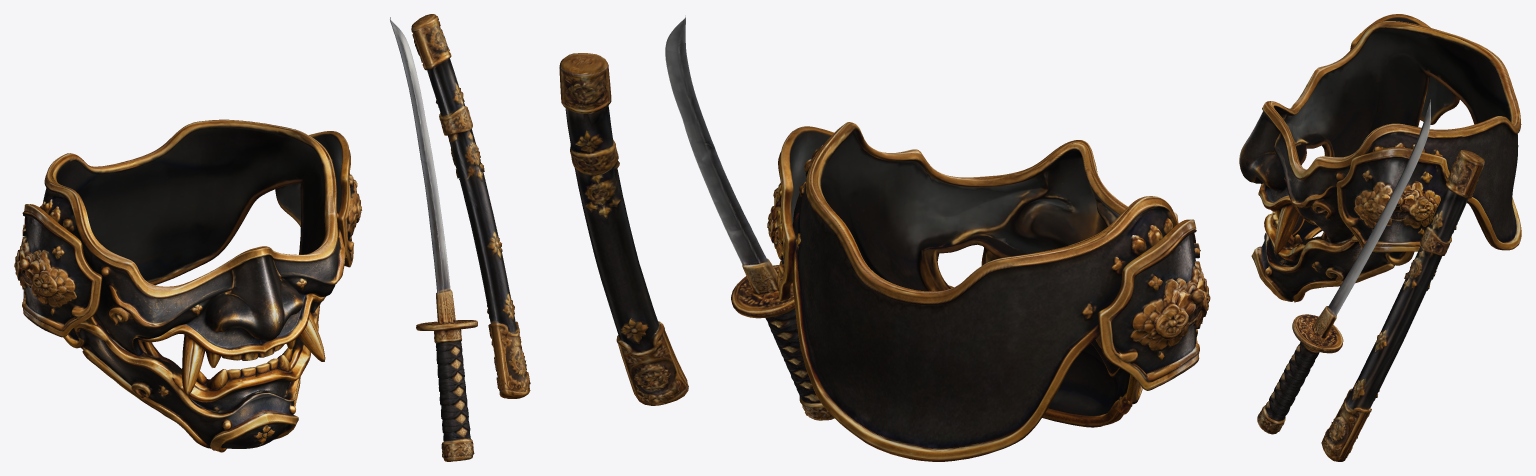
The model's file is nemesis-mask-katana.glb.
3 views of the same model, side by side, from view 1: azimuth 30°, elevation 25°; view 2: azimuth 150°, elevation 25°; view 3: azimuth 270°, elevation 25° (orthographic). The views are drawn at different scales.
Visible parts, largest first — view 1: tripo_part_0, tripo_part_1, tripo_part_2; view 2: tripo_part_0, tripo_part_1, tripo_part_2; view 3: tripo_part_0, tripo_part_1, tripo_part_2.
Boxes of the visible parts, left/top/right/bottom form: tripo_part_0: left=14, top=119, right=361, bottom=452; tripo_part_1: left=411, top=14, right=530, bottom=398; tripo_part_2: left=390, top=17, right=477, bottom=461; tripo_part_0: left=767, top=122, right=1210, bottom=461; tripo_part_1: left=559, top=53, right=688, bottom=405; tripo_part_2: left=665, top=15, right=834, bottom=420; tripo_part_0: left=1239, top=14, right=1521, bottom=302; tripo_part_1: left=1321, top=149, right=1484, bottom=461; tripo_part_2: left=1257, top=99, right=1430, bottom=434.
Size of the model in its own units: 0.9803 by 0.7377 by 0.5547.
1 material, 1 textured.
